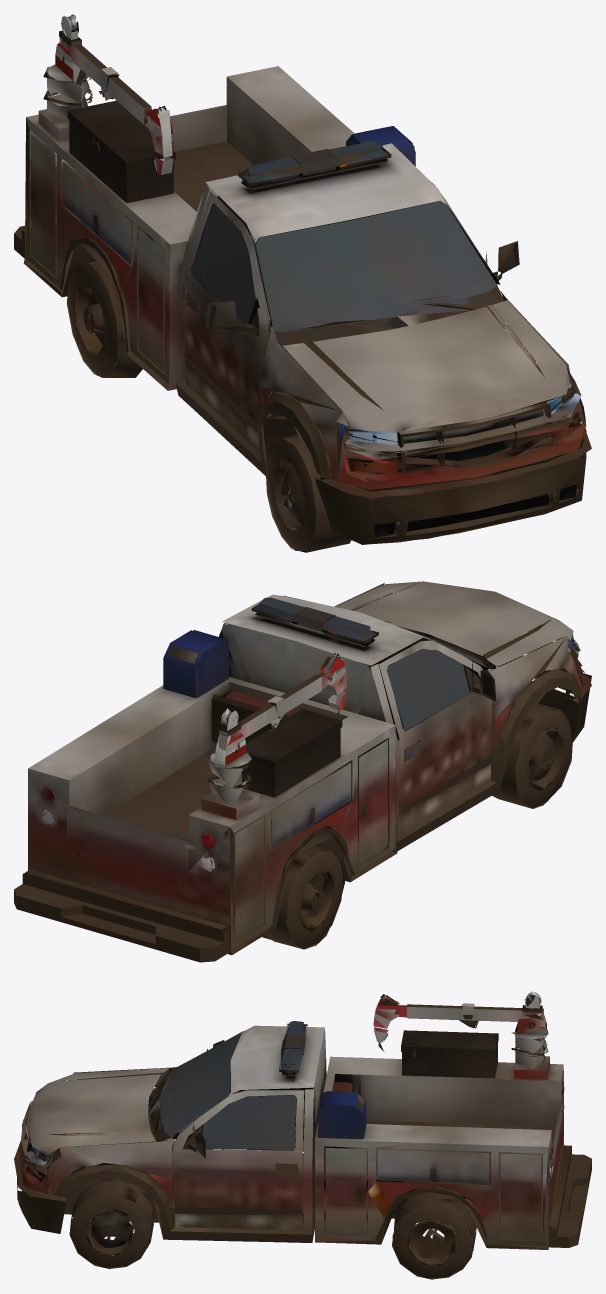
File: pack-road-service-L3.glb
3 views of the same model, one above another, from view 1: azimuth 30°, elevation 25°; view 2: azimuth 150°, elevation 25°; view 3: azimuth 270°, elevation 25° (orthographic). The views are drawn at different scales.
Visible parts, largest first — view 1: body; view 2: body; view 3: body.
Part boxes in pixels (left/top/right/bottom): body: left=14, top=14, right=591, bottom=552; body: left=14, top=581, right=591, bottom=962; body: left=14, top=991, right=591, bottom=1279.
Size of the model in its own units: 2.29 by 2.19 by 5.33.
1 material, 1 textured.
